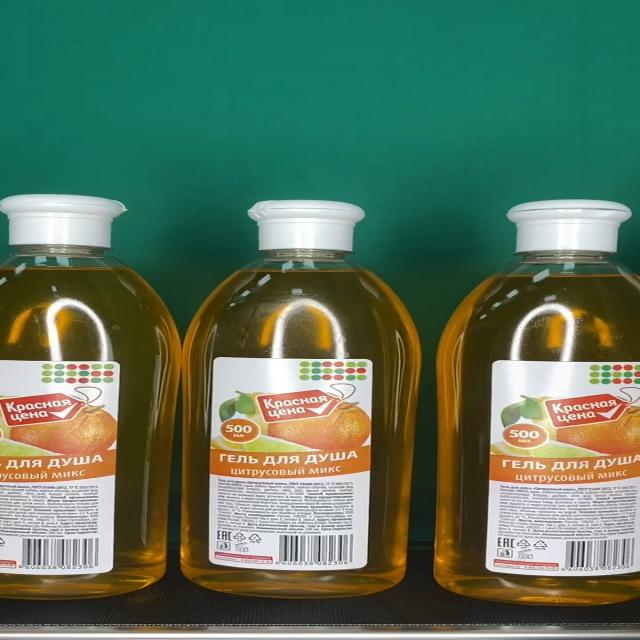Bottle: (181, 201, 423, 598), (434, 199, 640, 607), (0, 194, 182, 600)
Cap: (0, 195, 129, 248), (506, 200, 632, 254), (247, 200, 364, 250)
